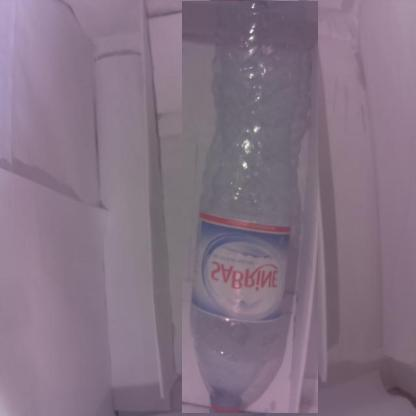Plastic Bottle: (181, 1, 318, 413)
